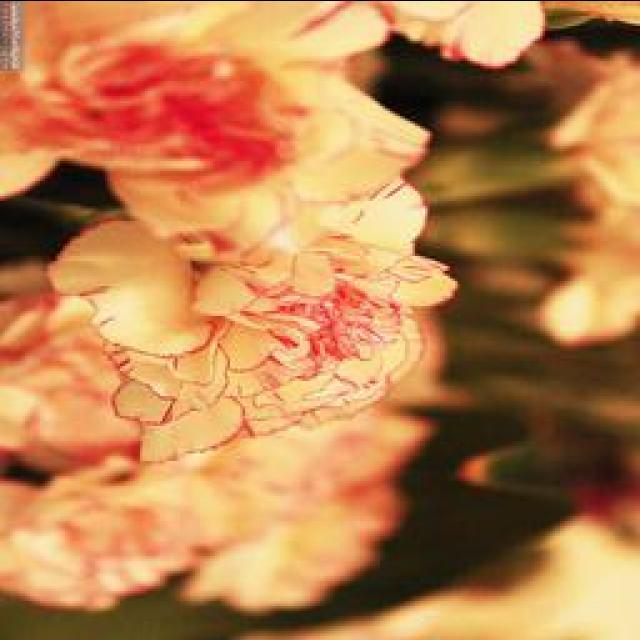carnation: (91, 150, 474, 459)
